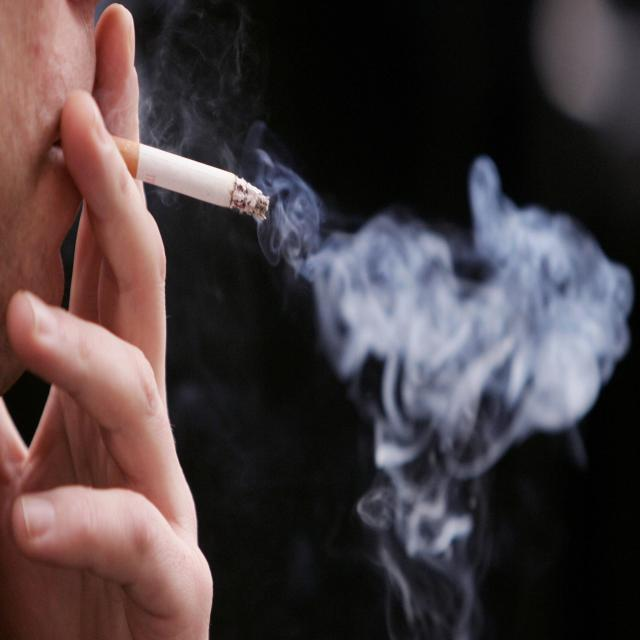cigarette: (114, 133, 271, 220)
